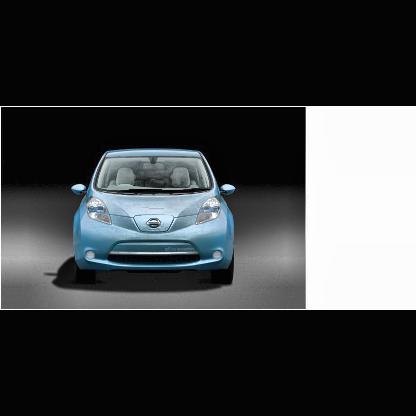Nissan Leaf Hatchback 2012: (71, 147, 236, 287)
